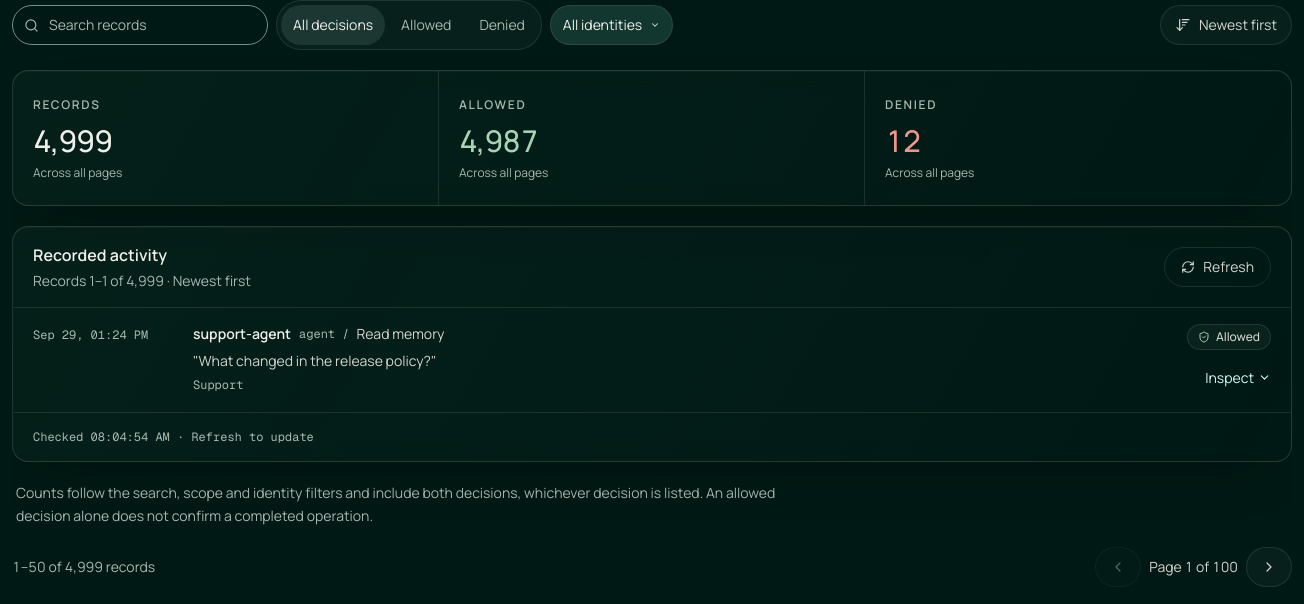
Test: AuditLog observability › keeps the allowed count visible while the list shows denials only, and says the list is filtered
Expected: the text "Records 1–1 of 4,999 · Newest first" is shown, [33,270,251,290]
Click the button "Denied".
click(502, 25)  # box [467,5,537,45]
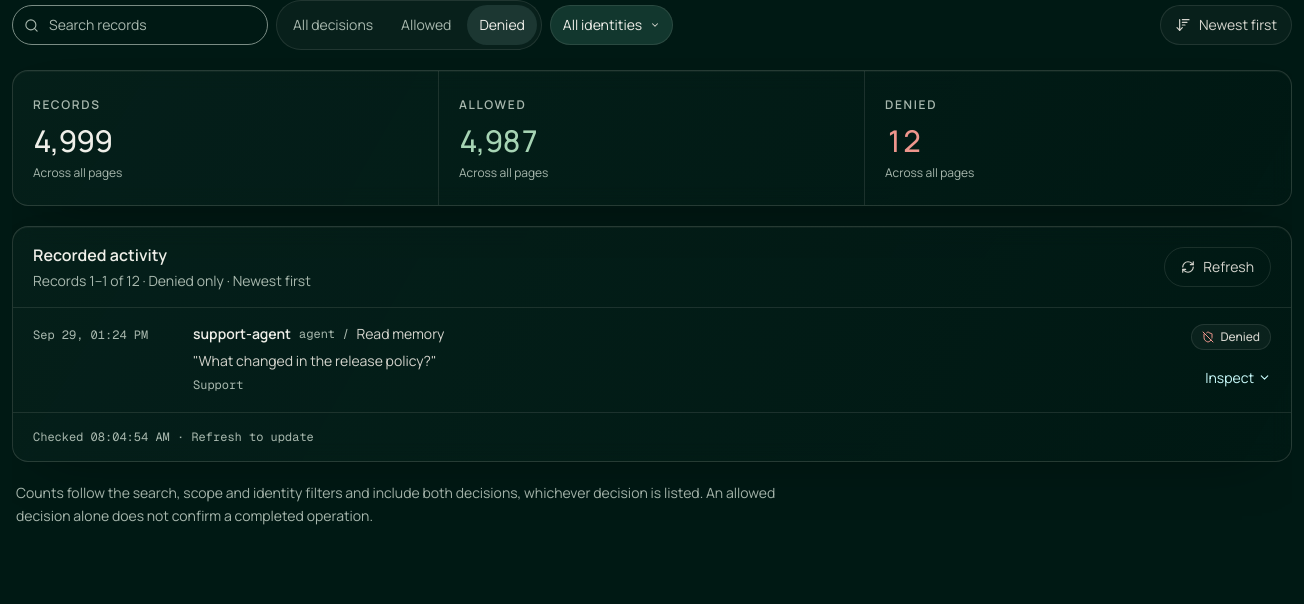
Expected: the text "4,999" is shown, [33,120,112,160]
Expected: the text "Records 1–1 of 12 · Denied only · Newest first" is shown, [33,270,311,290]
